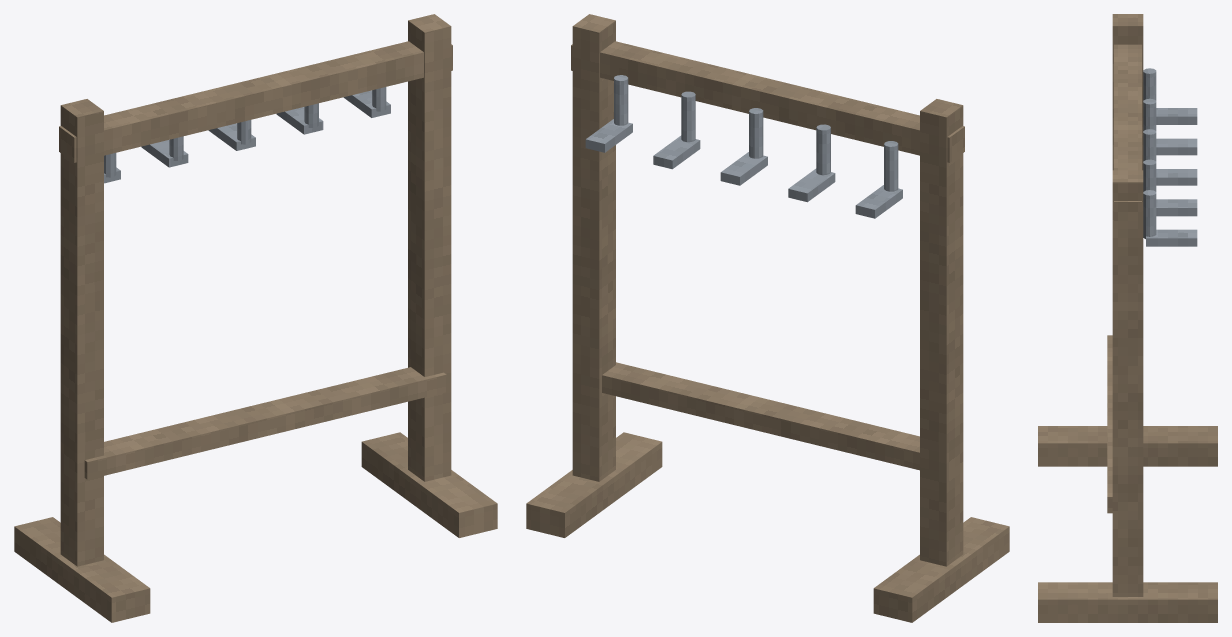
Rendered from level_blockout_refined_school_coat_rail.glb.
3 views of the same model, side by side, from view 1: azimuth 30°, elevation 25°; view 2: azimuth 150°, elevation 25°; view 3: azimuth 270°, elevation 25° (orthographic). The views are drawn at different scales.
Parts seen in each view (by area): view 1: level_blockout_refined_school_coat_rail; view 2: level_blockout_refined_school_coat_rail; view 3: level_blockout_refined_school_coat_rail.
Boxes of the visible parts, x1,y1,x2,y2 form: level_blockout_refined_school_coat_rail: (14, 14, 497, 622); level_blockout_refined_school_coat_rail: (526, 14, 1009, 622); level_blockout_refined_school_coat_rail: (1038, 14, 1217, 622).
Bounding box in the file's own units: 1.6 × 1.88 × 0.7.
2 materials, 2 textured.
